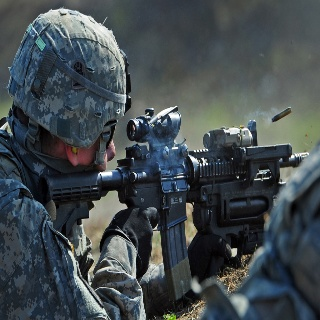rifle: (41, 105, 312, 302)
